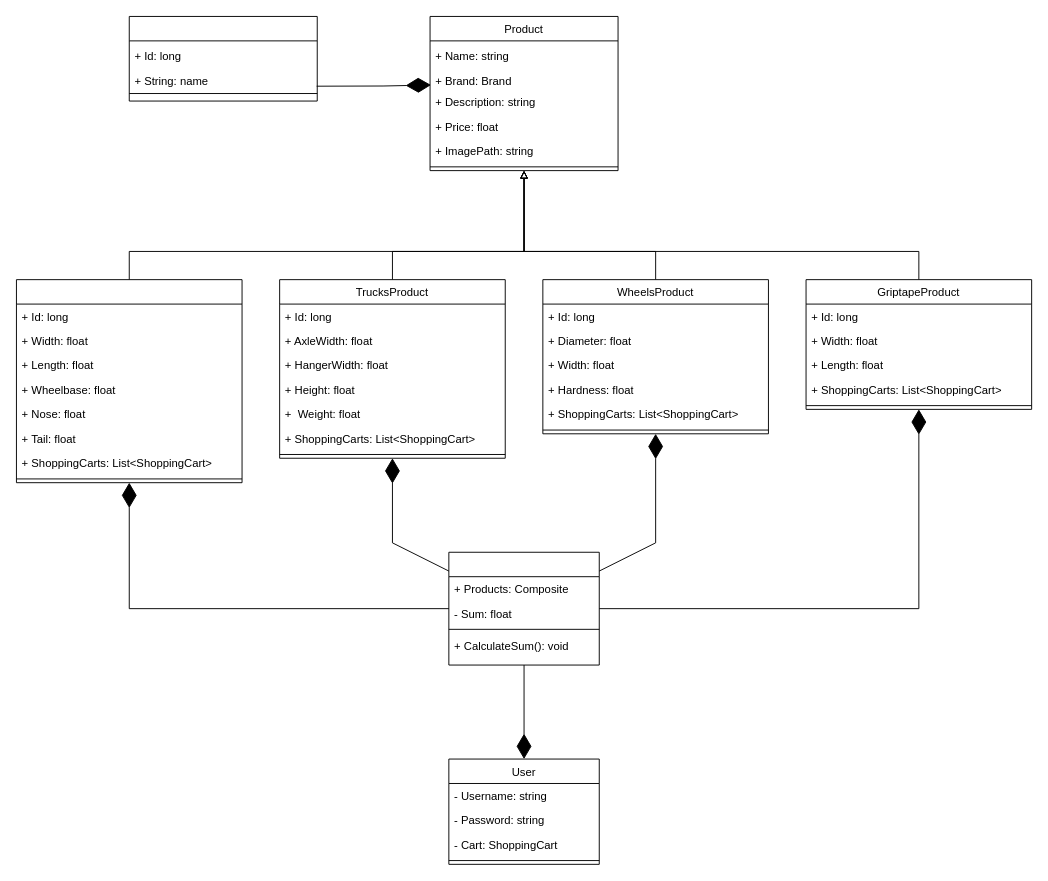
Image size: 1048x881. Some labels were removed from this diagram. Here are the shapes that lost their labels. From the top down, the box of each, then its label:
(128, 16, 317, 101): Brand
(16, 279, 242, 483): DeckProduct
(448, 551, 599, 665): ShoppingCart
